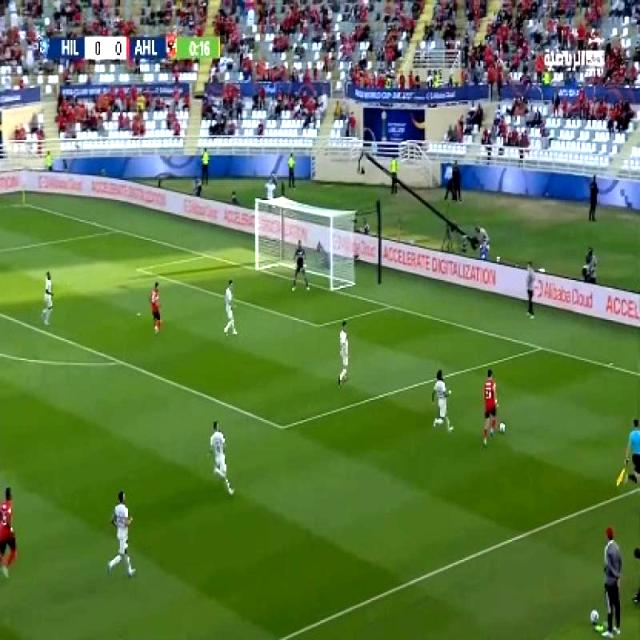bigarea_bottom_inner: (270, 411, 292, 442)
bigarea_bottom_outter: (528, 336, 549, 358)
bigarea_top_outter: (106, 222, 124, 238)
bottom_arc_area_intersection: (109, 349, 131, 374)
corner: (12, 195, 31, 210)
smallarea_bottom_inner: (308, 314, 326, 336)
smallarea_bottom_outter: (378, 294, 398, 316)
smallarea_top_inner: (128, 258, 149, 280)
smallarea_top_outter: (196, 246, 214, 264)
